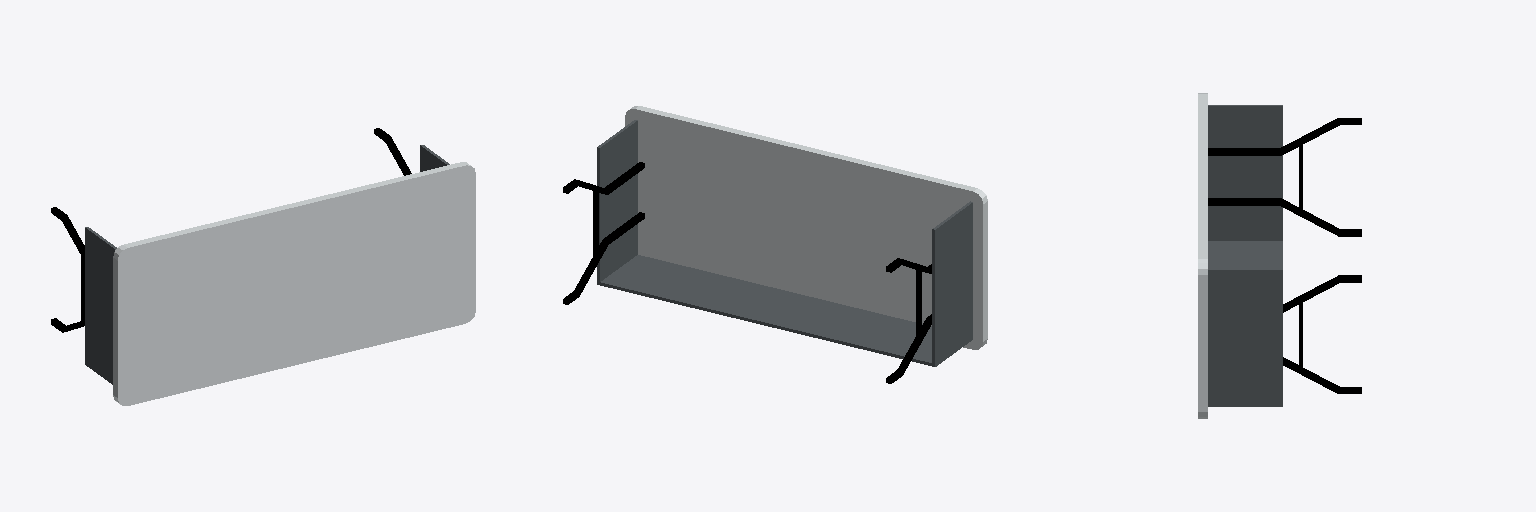
The model's file is Table.obj.
3 views of the same model, side by side, from view 1: azimuth 30°, elevation 25°; view 2: azimuth 150°, elevation 25°; view 3: azimuth 270°, elevation 25° (orthographic).
Visible parts, largest first — view 1: obj_0; view 2: obj_0; view 3: obj_0.
Boxes of the visible parts, x1=… form: obj_0: x1=51, y1=128, x2=475, y2=405; obj_0: x1=563, y1=106, x2=987, y2=383; obj_0: x1=1198, y1=93, x2=1361, y2=418.
Bounding box in the file's own units: 1.8 × 0.76 × 0.71.